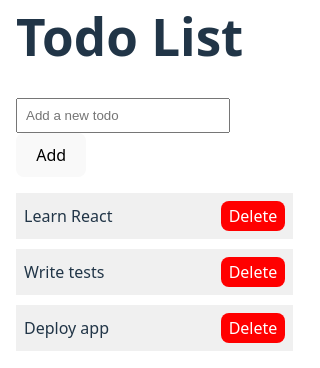
Scenario: TodoList › can delete a todo
What coordinates should you click on to do the following:
click the button with test id "delete-button-1"
I would click on:
 (253, 216)
Its box is [221,200,285,230].
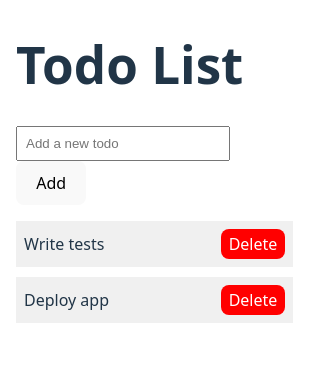
Expected: the text "Learn React" is gone
